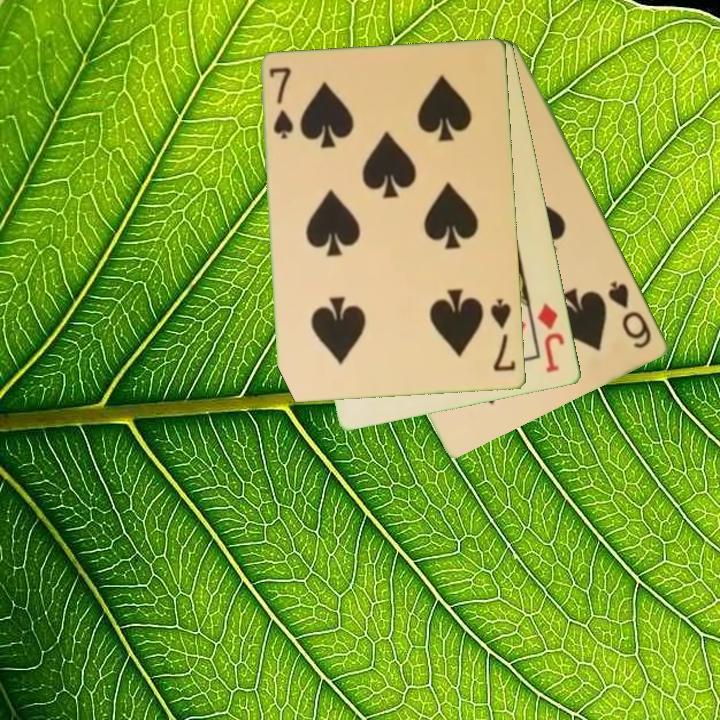6s: (605, 277, 655, 352)
7s: (487, 296, 519, 375), (266, 64, 297, 143)
Jd: (534, 300, 568, 376)
